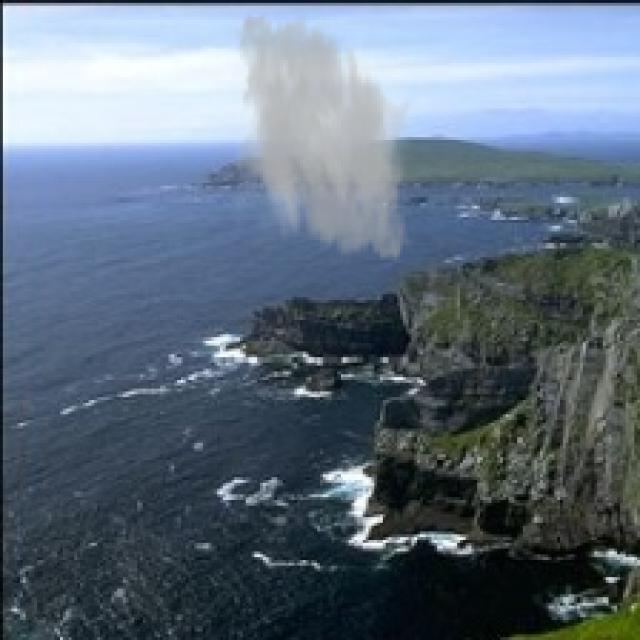Smoke: (220, 2, 420, 272)
